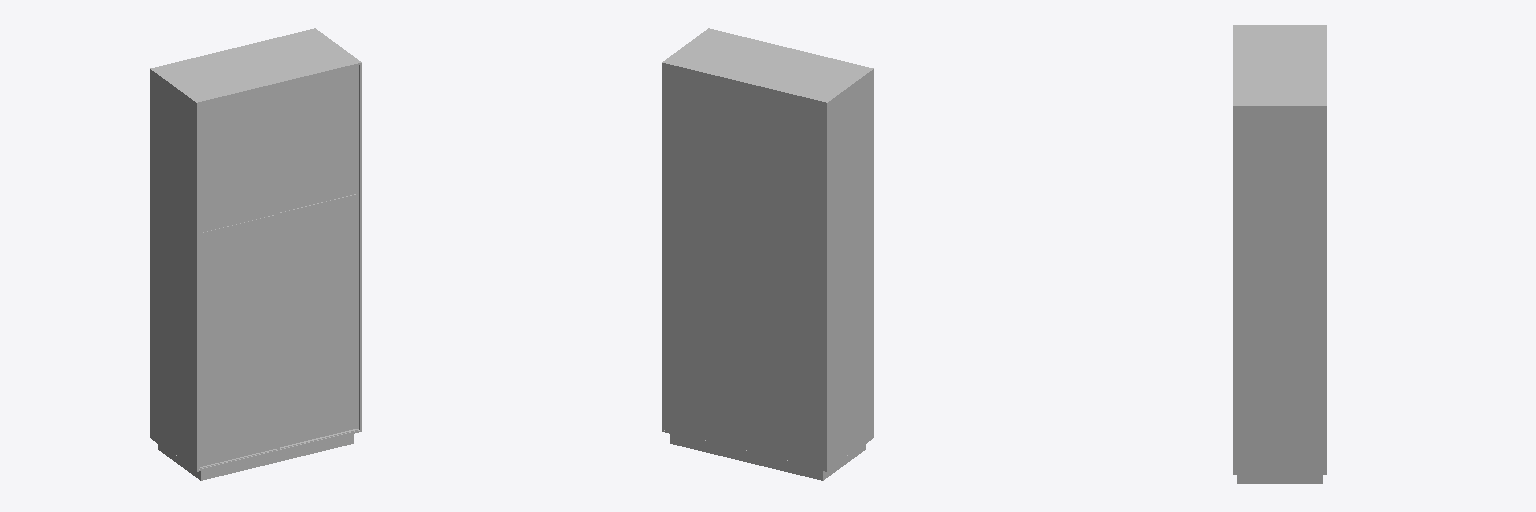
Rendered from slide.obj.
3 views of the same model, side by side, from view 1: azimuth 30°, elevation 25°; view 2: azimuth 150°, elevation 25°; view 3: azimuth 270°, elevation 25° (orthographic).
Parts seen in each view (by area): view 1: Куб.002, Куб.011_Куб.013, Куб.012; view 2: Куб.002; view 3: Куб.002.
Boxes of the visible parts, x1=… form: Куб.002: x1=150, y1=28, x2=361, y2=480; Куб.011_Куб.013: x1=200, y1=81, x2=355, y2=466; Куб.012: x1=199, y1=65, x2=358, y2=468; Куб.002: x1=662, y1=28, x2=873, y2=480; Куб.002: x1=1233, y1=25, x2=1326, y2=483.
Bounding box in the file's own units: 1.8 × 3.96 × 0.8801.